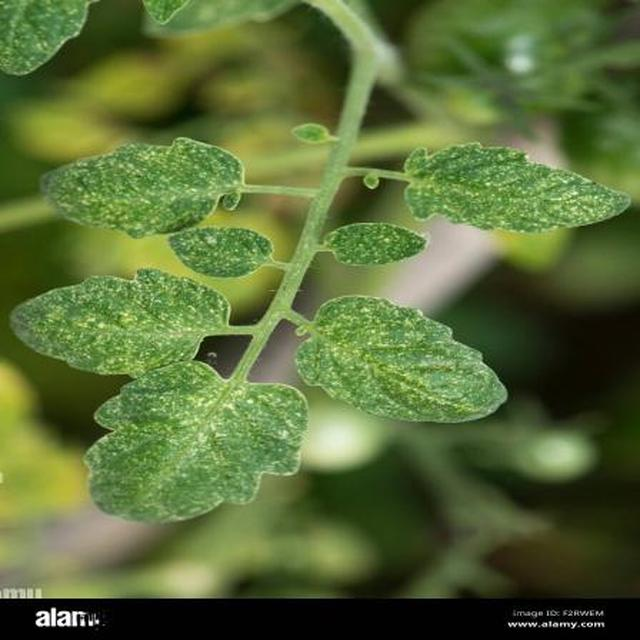Spider Mites Leaf: (149, 64, 640, 633)
